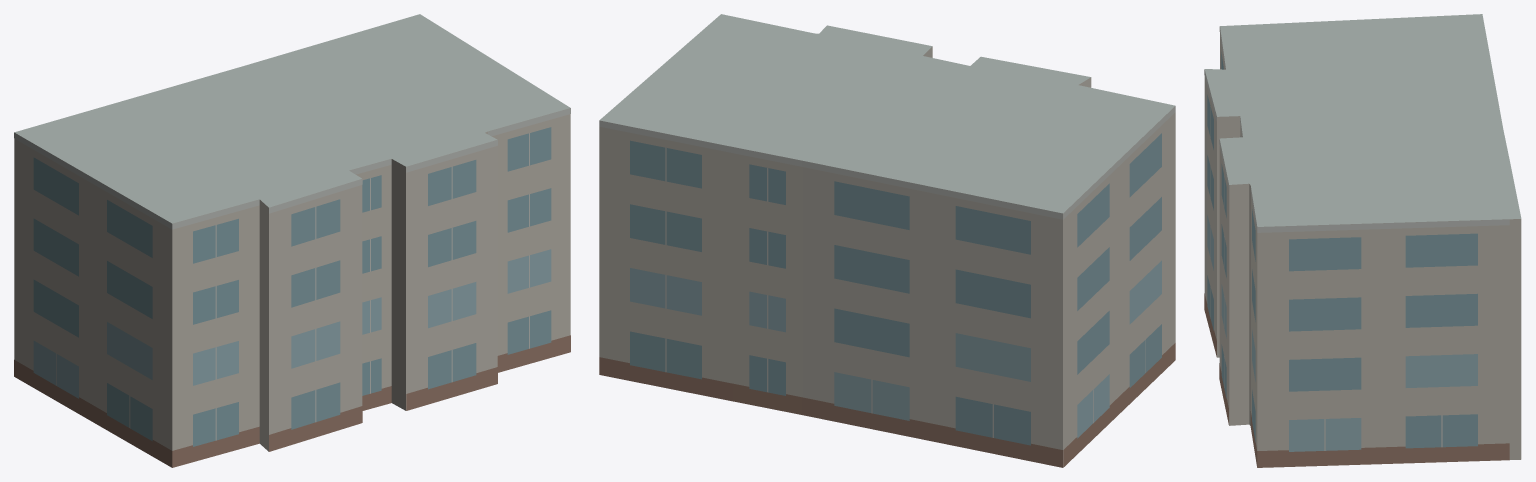
The model's file is survey-upis-32944546.glb.
3 views of the same model, side by side, from view 1: azimuth 30°, elevation 25°; view 2: azimuth 150°, elevation 25°; view 3: azimuth 270°, elevation 25° (orthographic). The views are drawn at different scales.
Parts seen in each view (by area): view 1: survey-upis-32944546.tmp; view 2: survey-upis-32944546.tmp; view 3: survey-upis-32944546.tmp.
Boxes of the visible parts, <box> form: survey-upis-32944546.tmp: <box>14,14,570,467</box>; survey-upis-32944546.tmp: <box>599,14,1175,467</box>; survey-upis-32944546.tmp: <box>1204,14,1521,467</box>.
Bounding box in the file's own units: 18.78 × 9.9 × 11.82.
